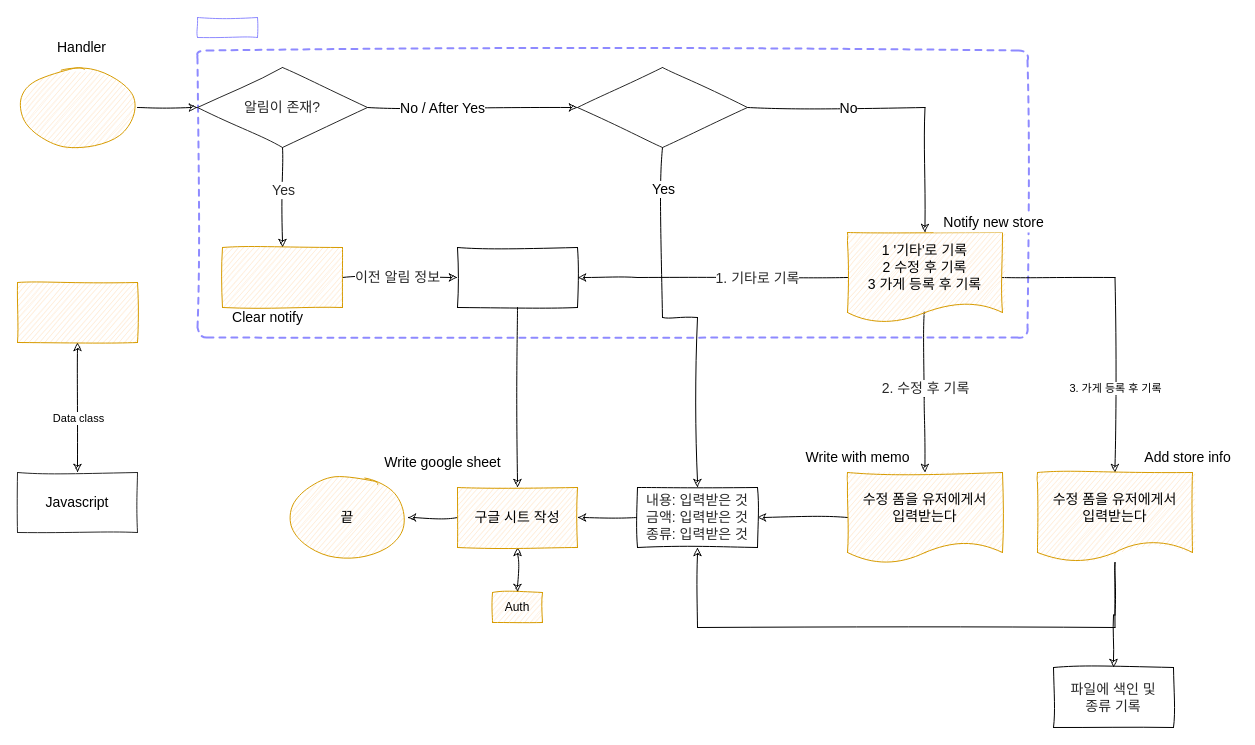
The diagram is 1255 pixels wide and 745 high, and some of its shapes have lost their labels. The shapes that lost their labels are listed below. From the top down, each one's box as (x1, y1, x2, y2) in pixels, then its label:
(196, 16, 258, 38): main.js
(16, 66, 138, 148): 메시지 이벤트
(576, 66, 748, 148): 등록된 가게
(222, 246, 342, 308): 이미 존재하는 알림 제거
(456, 246, 578, 308): 내용: 메시지 내용 금액: 메시지 금액 종류: 기타
(16, 282, 138, 342): Tasker
